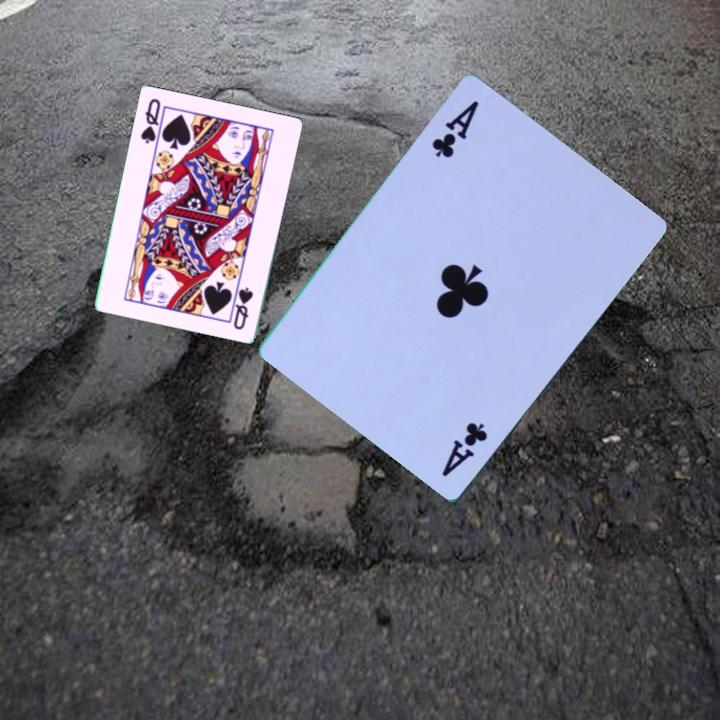Ac: (428, 96, 482, 161), (438, 417, 491, 479)
Qs: (137, 94, 167, 150), (230, 283, 256, 332)
